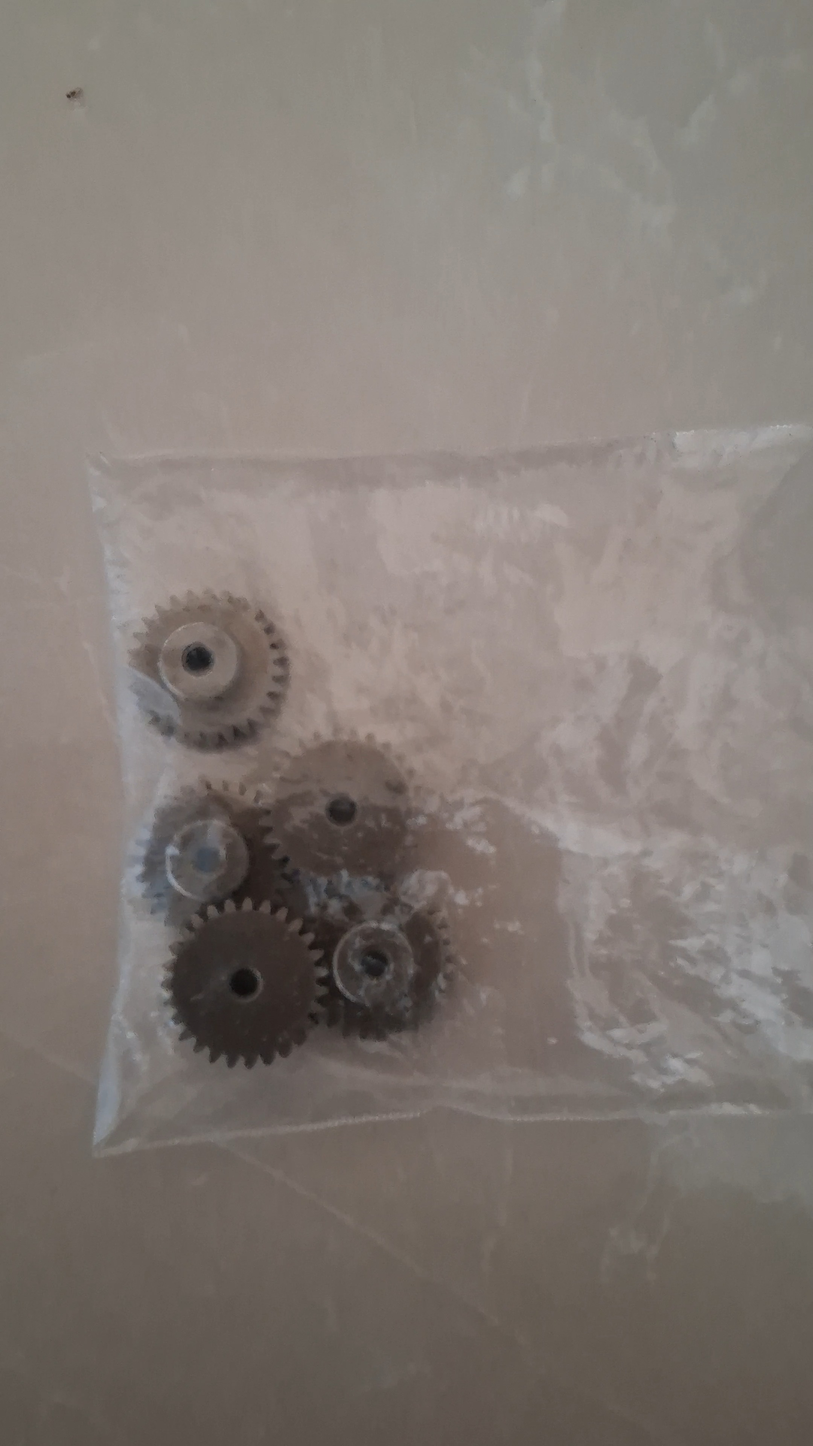spur gear: (165, 899, 324, 1066), (129, 593, 288, 749), (136, 780, 305, 926), (309, 879, 453, 1039), (266, 737, 407, 879)
